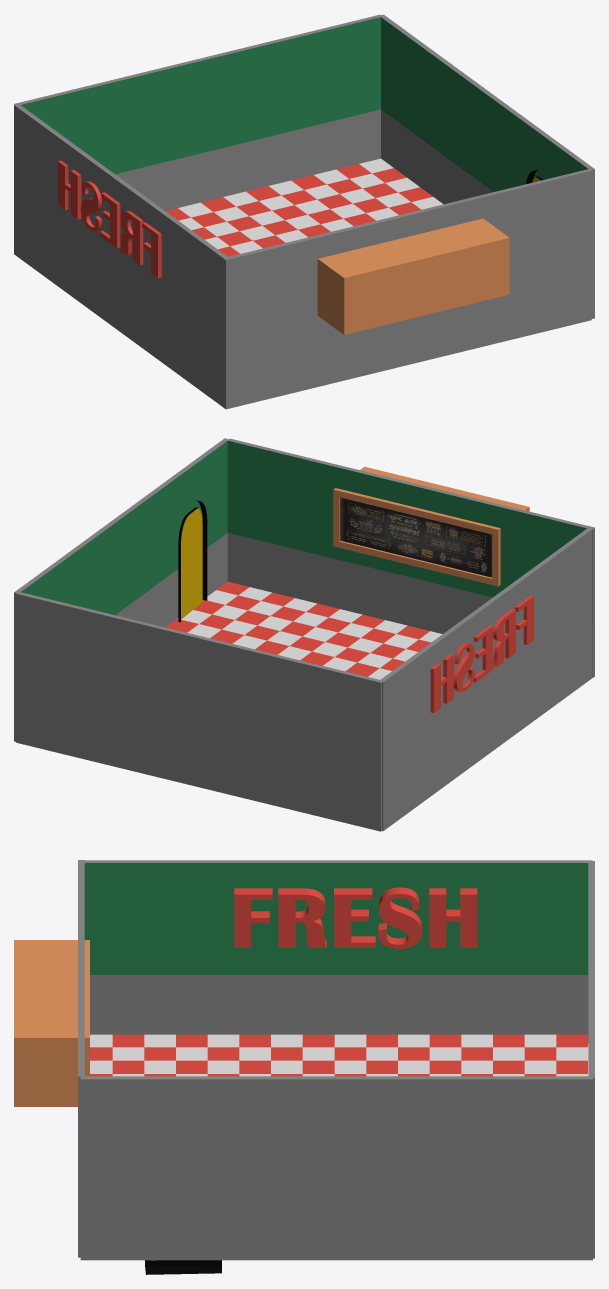
File: pizza.glb
3 renders of one model, top to bottom at view 1: azimuth 30°, elevation 25°; view 2: azimuth 150°, elevation 25°; view 3: azimuth 270°, elevation 25°, orthographic. The views are drawn at different scales.
Visible parts, largest first — view 1: Cube; view 2: Cube; view 3: Cube.
Boxes of the visible parts, x1,y1,x2,y2 form: Cube: [14, 14, 594, 409]; Cube: [14, 438, 594, 831]; Cube: [14, 860, 594, 1274].
Bounding box in the file's own units: 13.9 × 5.59 × 15.26.
14 materials, 1 textured.
